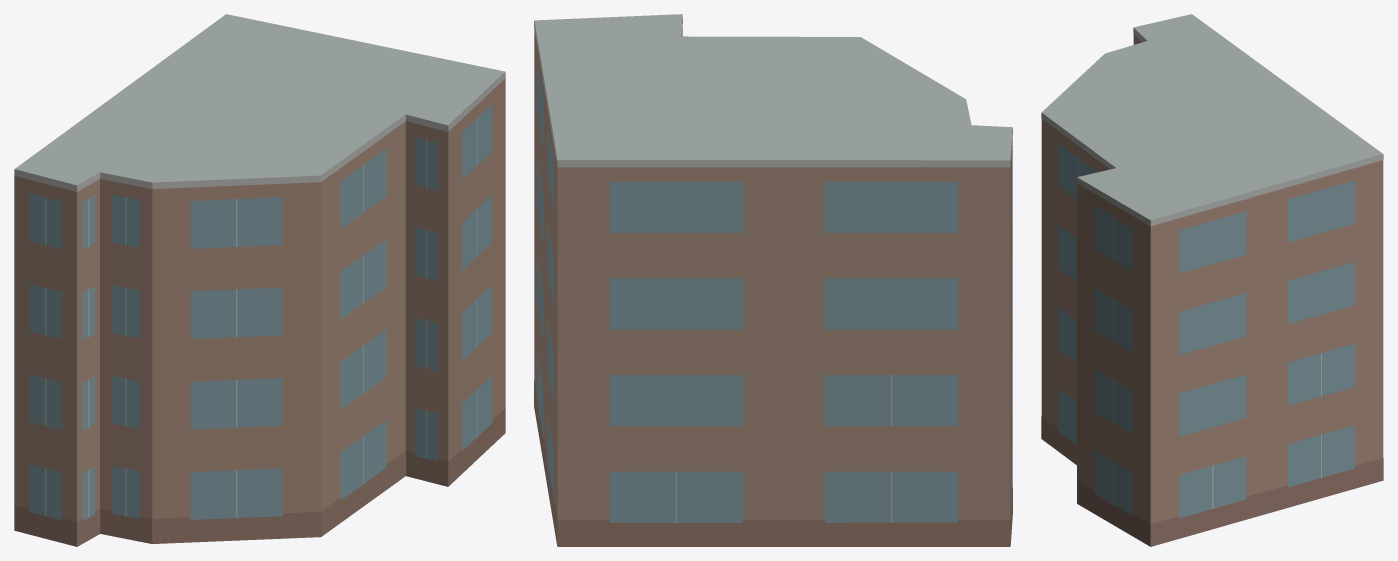
The model's file is survey-upis-32963885.glb.
3 renders of one model, left to right at view 1: azimuth 30°, elevation 25°; view 2: azimuth 150°, elevation 25°; view 3: azimuth 270°, elevation 25°, orthographic. The views are drawn at different scales.
Parts seen in each view (by area): view 1: survey-upis-32963885.tmp; view 2: survey-upis-32963885.tmp; view 3: survey-upis-32963885.tmp.
Boxes of the visible parts, left/top/right/bottom form: survey-upis-32963885.tmp: left=14, top=14, right=505, bottom=546; survey-upis-32963885.tmp: left=534, top=14, right=1012, bottom=546; survey-upis-32963885.tmp: left=1041, top=14, right=1383, bottom=546.
Bounding box in the file's own units: 18.15 × 13.38 × 12.71.
